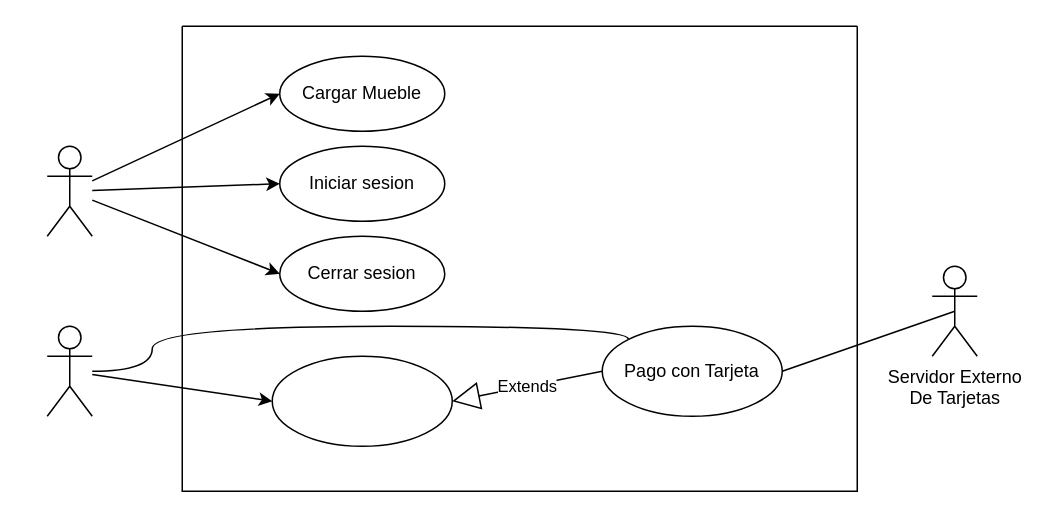
The diagram is 1047 pixels wide and 518 high, and some of its shapes have lost their labels. The centre of each missing label's shape, as x and y in pixels:
"Encargado" goes at [69,190].
"Reserva Mueble" goes at [361,400].
"Usuario" goes at [69,370].
